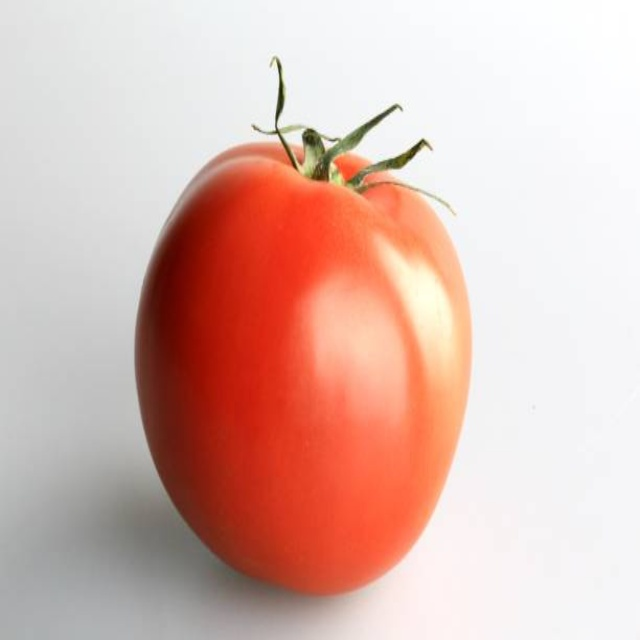tomato: (128, 102, 474, 596)
